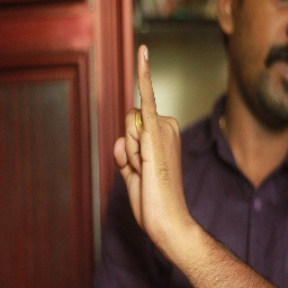I: (111, 43, 187, 228)
